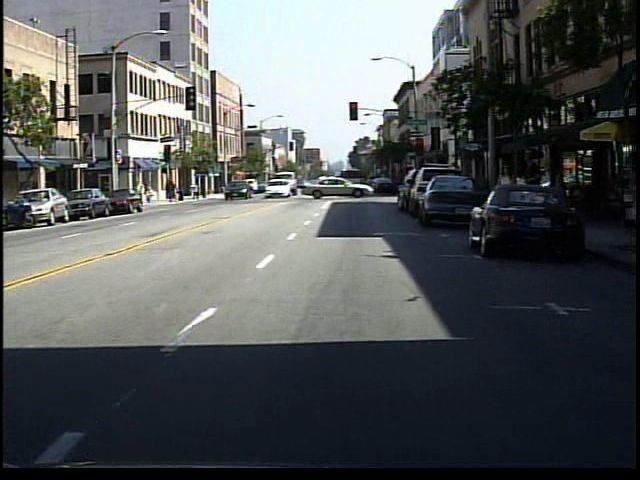person: (514, 149, 543, 243), (496, 157, 519, 238), (145, 181, 158, 207)
